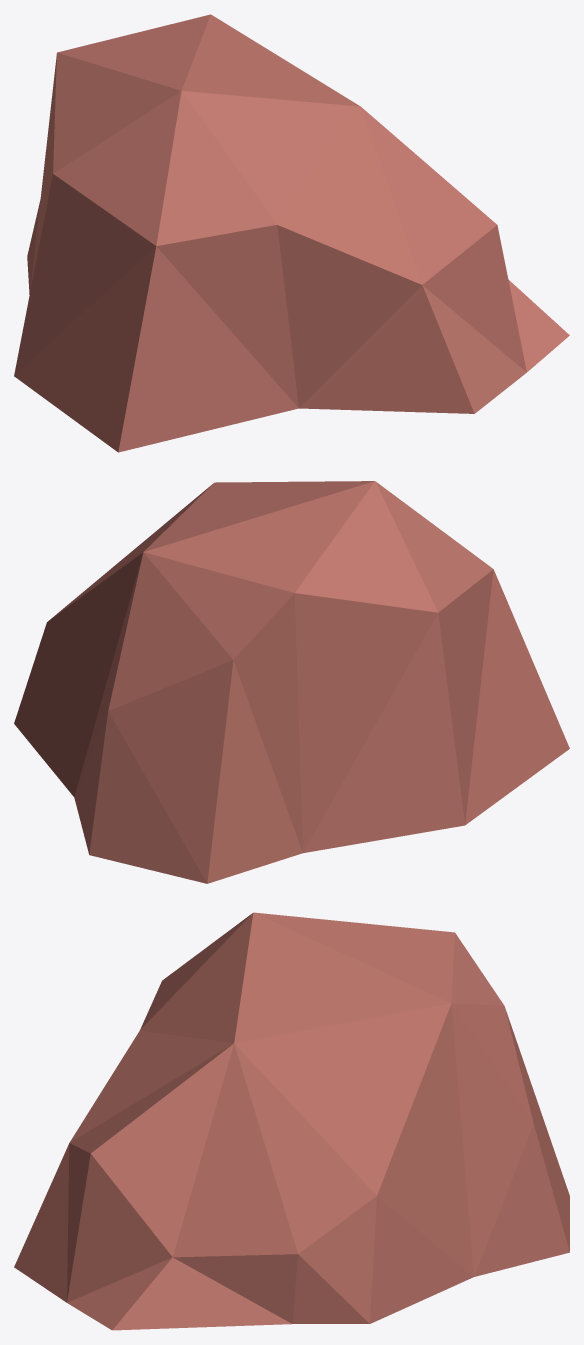
File: removableRock3.fbx
The picture shows the model from 3 angles, top to bottom: view 1: azimuth 30°, elevation 25°; view 2: azimuth 150°, elevation 25°; view 3: azimuth 270°, elevation 25°; orthographic projection. The views are drawn at different scales.
Parts seen in each view (by area): view 1: Cube.010; view 2: Cube.010; view 3: Cube.010.
Boxes of the visible parts, x1,y1,x2,y2 form: Cube.010: (14,14,569,452); Cube.010: (14,481,569,883); Cube.010: (14,912,569,1330).
Size of the model in its own units: 392 by 239 by 430.
